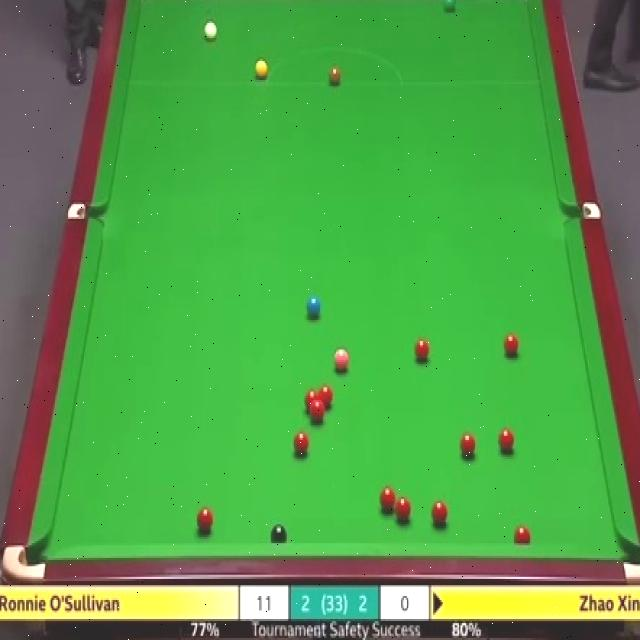black-ball: (270, 524, 289, 545)
blue-ball: (305, 294, 323, 317)
brown-ball: (328, 63, 341, 84)
green-ball: (442, 0, 456, 13)
pink-ball: (333, 348, 350, 374)
red-ball: (430, 501, 449, 529), (459, 432, 478, 459), (413, 335, 431, 363), (290, 432, 310, 457), (196, 505, 213, 534), (396, 494, 412, 524), (378, 487, 396, 513), (498, 427, 516, 453), (304, 390, 319, 416), (503, 332, 518, 358), (319, 384, 333, 410), (513, 524, 532, 542), (310, 403, 326, 423)
white-ball: (204, 24, 219, 39)
yellow-ball: (254, 62, 267, 78)
